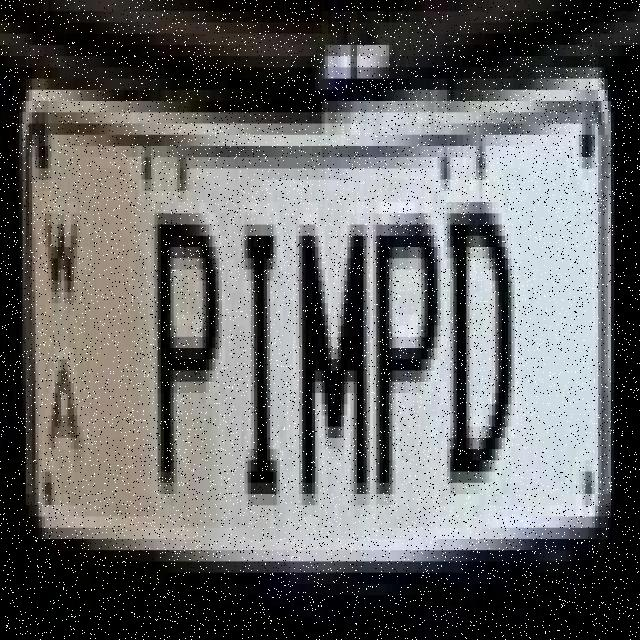licenseplate: (12, 44, 621, 584)
